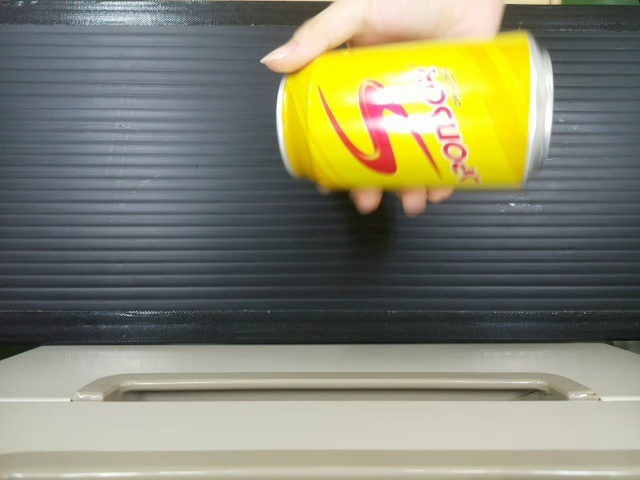can: (275, 42, 550, 179)
